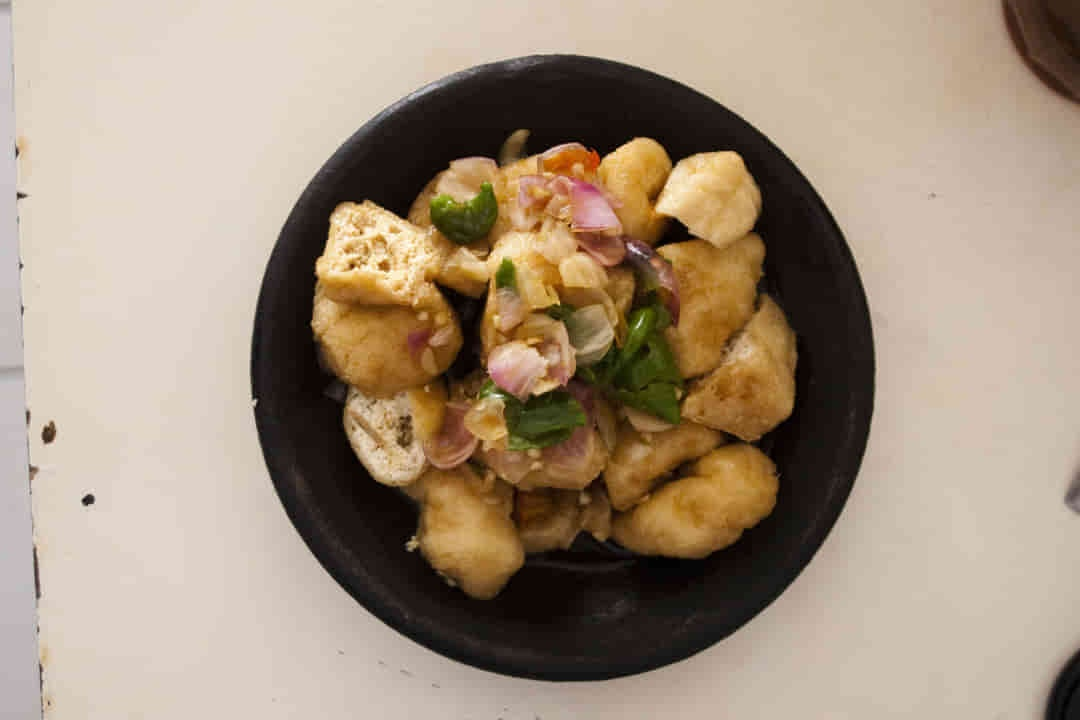tahu_gejrot: (308, 127, 804, 621)
